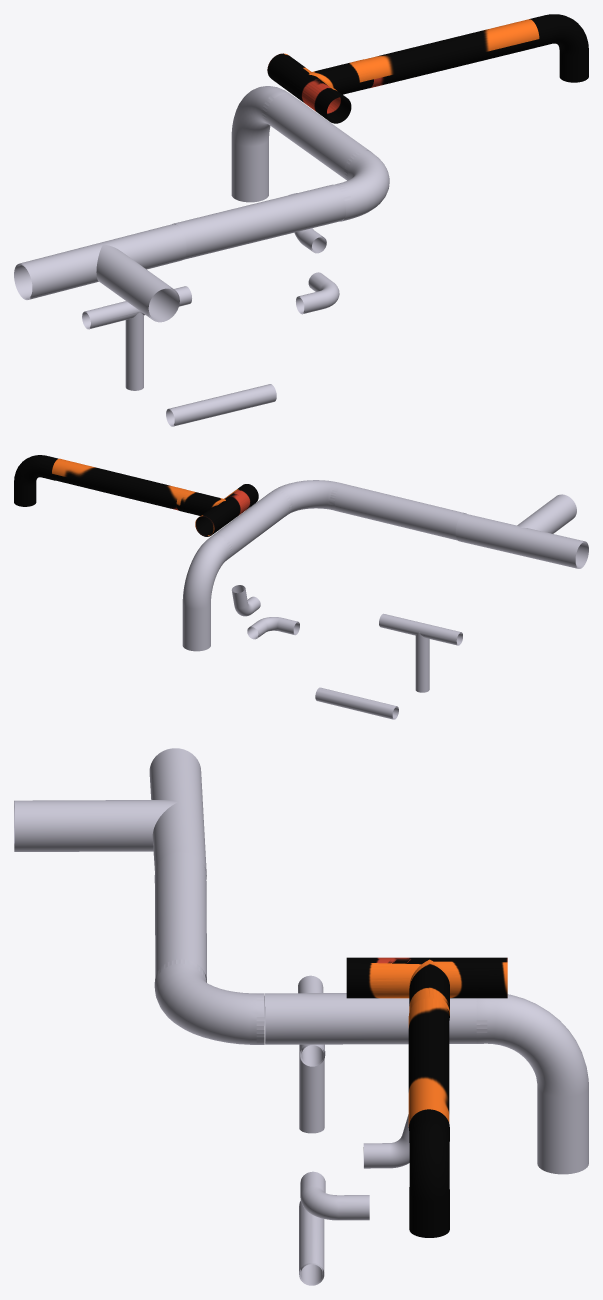
Rendered from Trubes.fbx.
3 views of the same model, one above another, from view 1: azimuth 30°, elevation 25°; view 2: azimuth 150°, elevation 25°; view 3: azimuth 270°, elevation 25° (orthographic). The views are drawn at different scales.
Parts seen in each view (by area): view 1: Пятый блок\Труба входящая (2).001, Пятый блок\Труба входящая (2).006, Пятый блок\Потрубок выходной из .002, Пятый блок\Труба входящая (2).004, Пятый блок\Потрубок выходной из .001, Пятый блок\Труба входящая (2).003, Пятый блок\Потрубок для горячог.004, Пятый блок\Труба входящая (2).005, Пятый блок\Потрубок выходной из .003, Пятый блок\Потрубок для горячог.006, Пятый блок\Потрубок для горячог.005, Пятый блок\Труба нагервателя 2.002; view 2: Пятый блок\Труба входящая (2).001, Пятый блок\Труба входящая (2).006, Пятый блок\Труба входящая (2).004, Пятый блок\Потрубок выходной из .002, Пятый блок\Потрубок выходной из .001, Пятый блок\Труба входящая (2).003, Пятый блок\Потрубок для горячог.004, Пятый блок\Труба входящая (2).005, Пятый блок\Потрубок выходной из .003, Пятый блок\Потрубок для горячог.006, Пятый блок\Потрубок для горячог.005, Пятый блок\Труба нагервателя 2.002; view 3: Пятый блок\Труба входящая (2).001, Пятый блок\Труба входящая (2).004, Пятый блок\Труба входящая (2).003, Пятый блок\Потрубок выходной из .001, Пятый блок\Труба входящая (2).005, Пятый блок\Труба входящая (2).006, Пятый блок\Потрубок выходной из .003, Пятый блок\Потрубок выходной из .002, Пятый блок\Потрубок для горячог.004, Пятый блок\Потрубок для горячог.005, Пятый блок\Потрубок для горячог.006, Пятый блок\Труба нагервателя 2.002.
Part boxes in pixels (left/top/right/bottom): Пятый блок\Труба входящая (2).001: left=14, top=224, right=186, bottom=322; Пятый блок\Труба входящая (2).006: left=172, top=184, right=345, bottom=259; Пятый блок\Потрубок выходной из .002: left=365, top=19, right=539, bottom=87; Пятый блок\Труба входящая (2).004: left=231, top=86, right=291, bottom=202; Пятый блок\Потрубок выходной из .001: left=267, top=53, right=373, bottom=123; Пятый блок\Труба входящая (2).003: left=266, top=94, right=371, bottom=180; Пятый блок\Потрубок для горячог.004: left=82, top=286, right=191, bottom=390; Пятый блок\Труба входящая (2).005: left=334, top=150, right=389, bottom=221; Пятый блок\Потрубок выходной из .003: left=529, top=14, right=588, bottom=82; Пятый блок\Потрубок для горячог.006: left=166, top=384, right=276, bottom=426; Пятый блок\Потрубок для горячог.005: left=296, top=272, right=339, bottom=314; Пятый блок\Труба нагервателя 2.002: left=289, top=193, right=326, bottom=253; Пятый блок\Труба входящая (2).001: left=455, top=494, right=588, bottom=568; Пятый блок\Труба входящая (2).006: left=334, top=484, right=466, bottom=540; Пятый блок\Труба входящая (2).004: left=182, top=534, right=232, bottom=651; Пятый блок\Потрубок выходной из .002: left=52, top=458, right=184, bottom=510; Пятый блок\Потрубок выходной из .001: left=176, top=484, right=258, bottom=536; Пятый блок\Труба входящая (2).003: left=213, top=491, right=289, bottom=557; Пятый блок\Потрубок для горячог.004: left=379, top=613, right=462, bottom=692; Пятый блок\Труба входящая (2).005: left=271, top=480, right=343, bottom=516; Пятый блок\Потрубок выходной из .003: left=14, top=455, right=58, bottom=506; Пятый блок\Потрубок для горячог.006: left=315, top=687, right=398, bottom=719; Пятый блок\Потрубок для горячог.005: left=247, top=617, right=299, bottom=639; Пятый блок\Труба нагервателя 2.002: left=231, top=585, right=260, bottom=616; Пятый блок\Труба входящая (2).001: left=14, top=748, right=206, bottom=879; Пятый блок\Труба входящая (2).004: left=476, top=994, right=588, bottom=1174; Пятый блок\Труба входящая (2).003: left=264, top=993, right=476, bottom=1044; Пятый блок\Потрубок выходной из .001: left=346, top=957, right=507, bottom=1020; Пятый блок\Труба входящая (2).005: left=154, top=959, right=264, bottom=1044; Пятый блок\Труба входящая (2).006: left=154, top=852, right=206, bottom=982; Пятый блок\Потрубок выходной из .003: left=409, top=1109, right=449, bottom=1237; Пятый блок\Потрубок выходной из .002: left=408, top=998, right=449, bottom=1130; Пятый блок\Потрубок для горячог.004: left=298, top=975, right=325, bottom=1133; Пятый блок\Потрубок для горячог.005: left=300, top=1171, right=369, bottom=1220; Пятый блок\Потрубок для горячог.006: left=299, top=1201, right=324, bottom=1285; Пятый блок\Труба нагервателя 2.002: left=363, top=1114, right=409, bottom=1168.
Size of the model in its own units: 205561 by 82636 by 113485.
